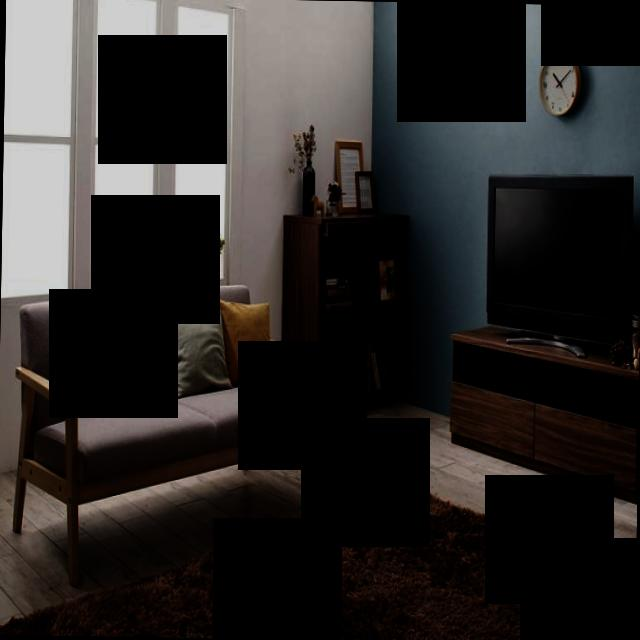natural shelf: (442, 326, 640, 503), (278, 210, 408, 417)
natural sofa: (11, 276, 333, 590)
